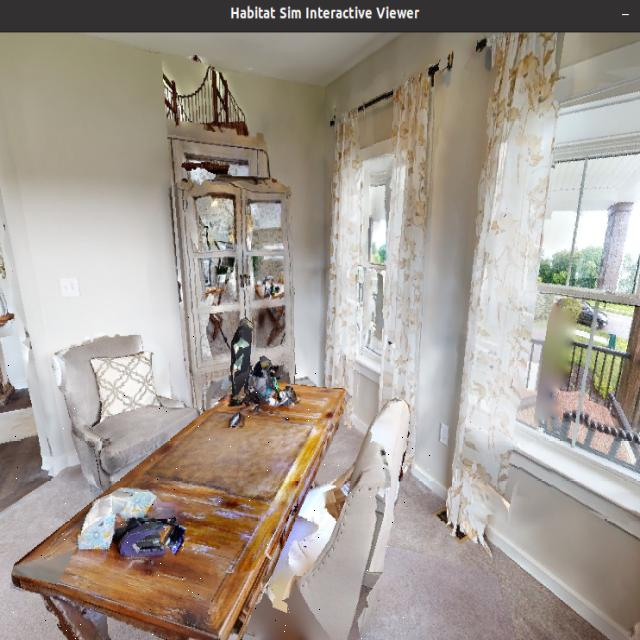chair: (184, 389, 443, 640)
sofa: (44, 325, 195, 503)
table: (0, 350, 361, 640)
